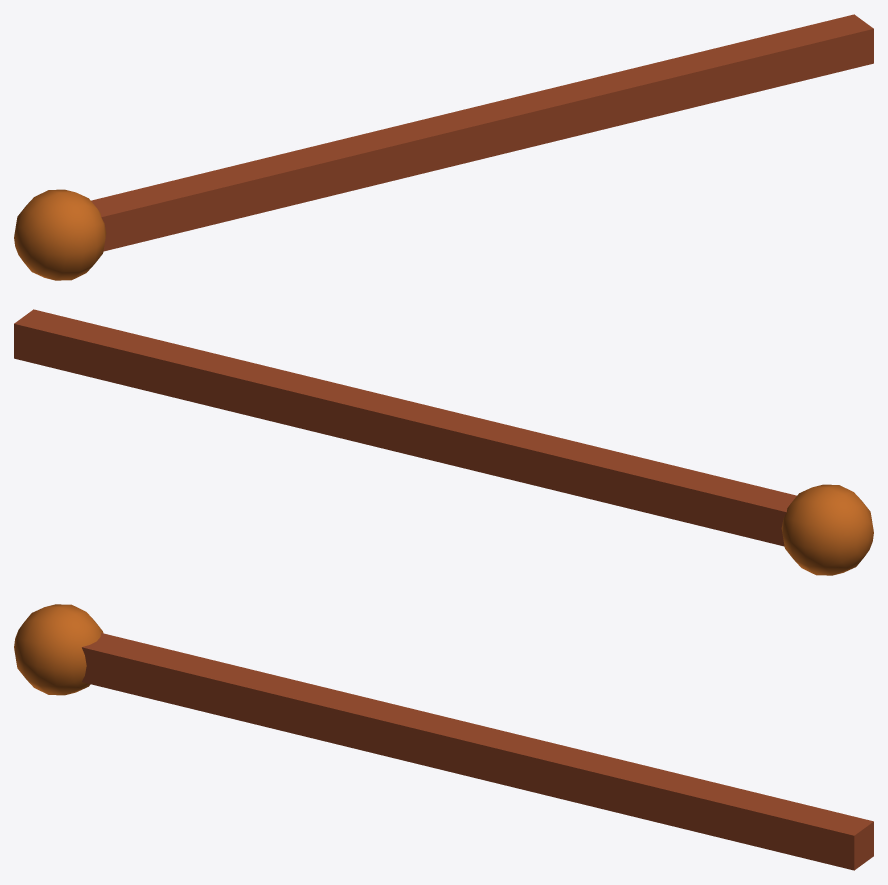
File: matchstick.glb
3 renders of one model, top to bottom at view 1: azimuth 30°, elevation 25°; view 2: azimuth 150°, elevation 25°; view 3: azimuth 330°, elevation 25°, orthographic.
Parts seen in each view (by area): view 1: matchstick part 1, matchstick part 2; view 2: matchstick part 1, matchstick part 2; view 3: matchstick part 1, matchstick part 2.
Part boxes in pixels (left/top/right/bottom): matchstick part 1: left=91, top=14, right=873, bottom=251; matchstick part 2: left=14, top=189, right=106, bottom=280; matchstick part 1: left=14, top=309, right=796, bottom=546; matchstick part 2: left=781, top=484, right=873, bottom=575; matchstick part 1: left=82, top=633, right=873, bottom=870; matchstick part 2: left=14, top=604, right=103, bottom=695.
Size of the model in its own units: 0.1066 by 0.0102 by 0.0102.
